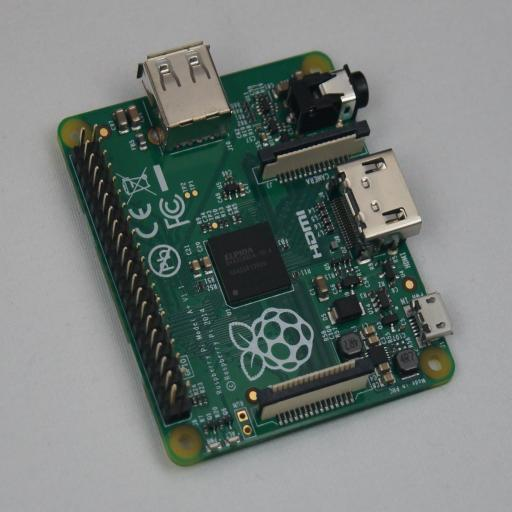Raspberry Pi A-: (57, 42, 455, 466)
